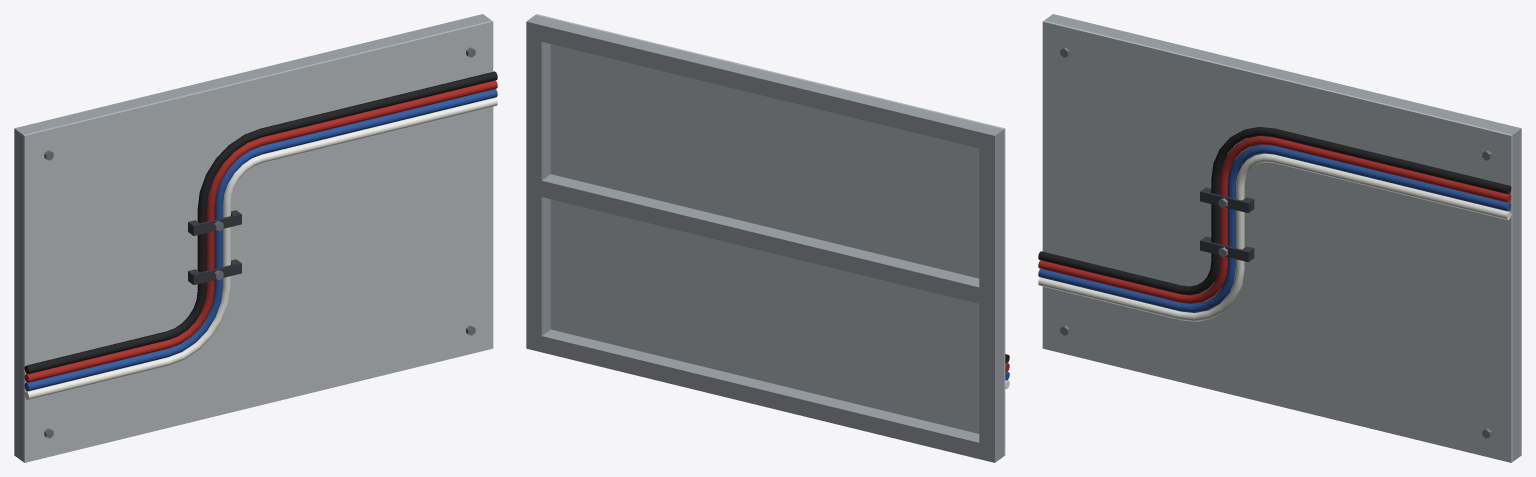
Rendered from kabin_paneli_kablo_demeti.glb.
3 renders of one model, left to right at view 1: azimuth 30°, elevation 25°; view 2: azimuth 150°, elevation 25°; view 3: azimuth 330°, elevation 25°, orthographic.
Visible parts, largest first — view 1: Plaka, Kablo_PTFE_Siyah, Kablo_PTFE_Kirmizi, Kablo_PTFE_Beyaz, Kablo_PTFE_Mavi, Cerceve_Ust, Cerceve_Sol, Klips_Alt, Klips_Ust; view 2: Plaka, Cerceve_Ust, Cerceve_Alt, Dikme_Orta, Cerceve_Sol, Cerceve_Sag; view 3: Plaka, Kablo_PTFE_Siyah, Kablo_PTFE_Beyaz, Kablo_PTFE_Mavi, Kablo_PTFE_Kirmizi, Cerceve_Ust, Cerceve_Sag, Klips_Ust, Klips_Alt.
Boxes of the visible parts, x1,y1,x2,y2 form: Plaka: (23,20,493,462); Kablo_PTFE_Siyah: (24,71,497,374); Kablo_PTFE_Kirmizi: (24,80,497,382); Kablo_PTFE_Beyaz: (24,97,497,399); Kablo_PTFE_Mavi: (24,89,497,391); Cerceve_Ust: (14,14,491,150); Cerceve_Sol: (14,145,23,445); Klips_Alt: (188,259,241,284); Klips_Ust: (188,210,241,235); Plaka: (535,14,1005,455); Cerceve_Ust: (526,15,1003,152); Cerceve_Alt: (526,329,1003,462); Dikme_Orta: (541,174,979,303); Cerceve_Sol: (979,146,1003,446); Cerceve_Sag: (526,38,550,335); Plaka: (1042,20,1512,462); Kablo_PTFE_Siyah: (1038,127,1511,295); Kablo_PTFE_Beyaz: (1038,153,1511,321); Kablo_PTFE_Mavi: (1038,144,1511,312); Kablo_PTFE_Kirmizi: (1038,136,1511,304); Cerceve_Ust: (1044,14,1521,150); Cerceve_Sag: (1512,145,1521,445); Klips_Ust: (1200,187,1254,213); Klips_Alt: (1200,236,1254,262).
Size of the model in its own units: 0.6 by 0.4 by 0.0405.
